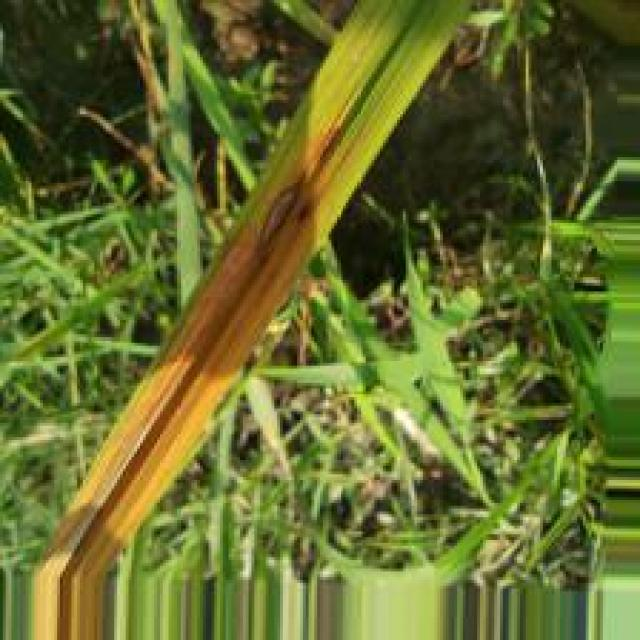Leaf_Blast: (32, 114, 347, 640)
